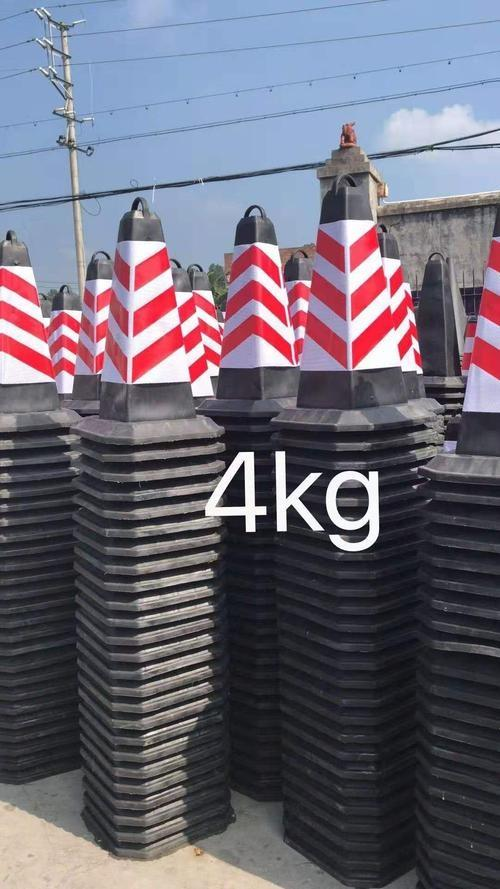cone_barrel: (287, 130, 422, 427), (95, 198, 207, 447), (211, 205, 306, 436), (439, 218, 498, 475), (66, 251, 114, 410)
